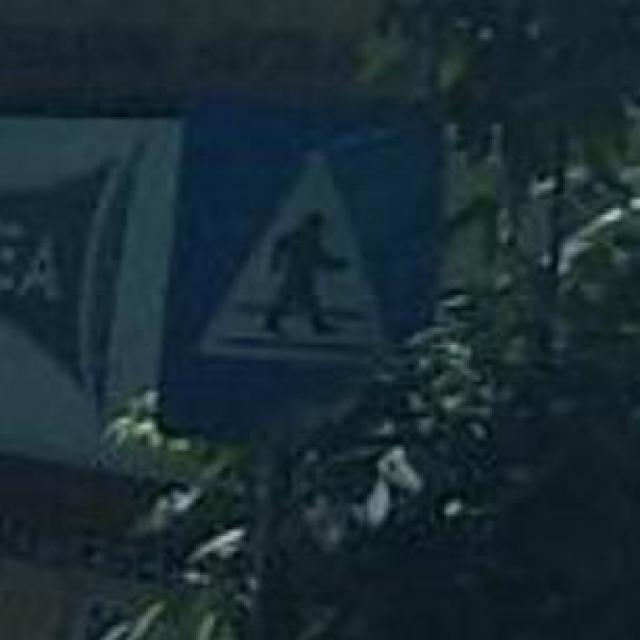traffic sign: (154, 96, 436, 328)
